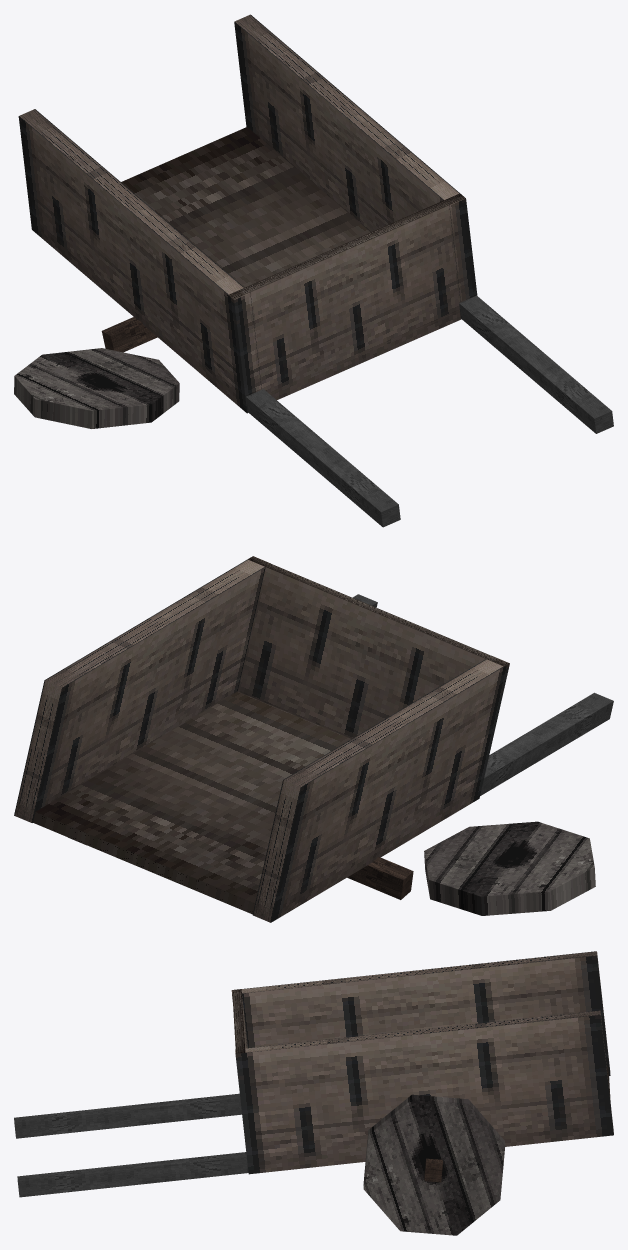
The model's file is DCart.fbx.
3 renders of one model, top to bottom at view 1: azimuth 30°, elevation 25°; view 2: azimuth 150°, elevation 25°; view 3: azimuth 270°, elevation 25°, orthographic. The views are drawn at different scales.
Parts seen in each view (by area): view 1: DCART; view 2: DCART; view 3: DCART.
Part boxes in pixels (x1,y1,x2,y2): DCART: (14,14,613,527); DCART: (14,556,613,922); DCART: (14,951,613,1235).
Bounding box in the file's own units: 10.63 × 5.46 × 14.58.
